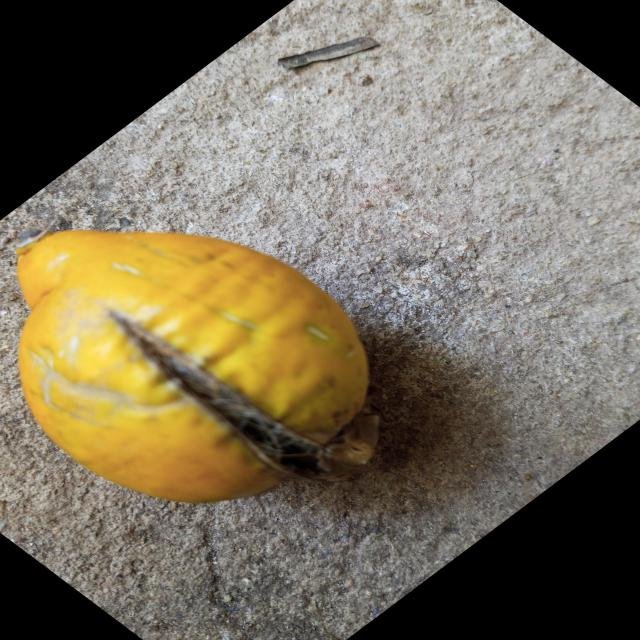damaged: (16, 230, 380, 507)
